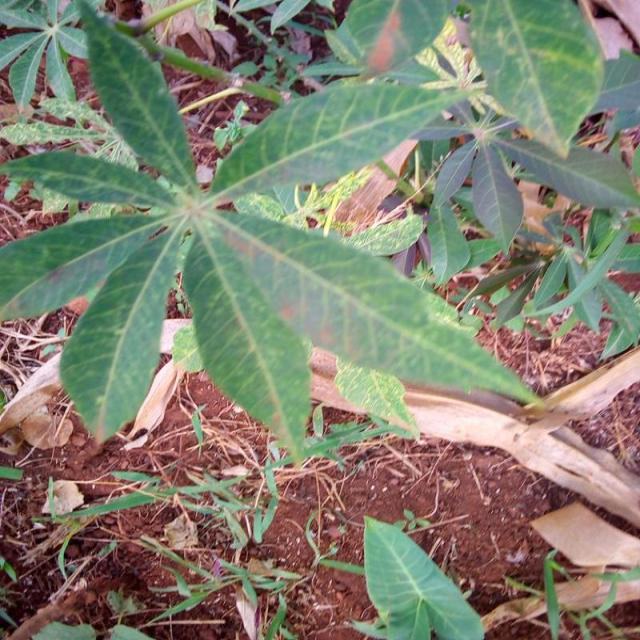cassava leaf: (0, 0, 546, 466), (465, 0, 605, 159), (361, 513, 485, 639)
